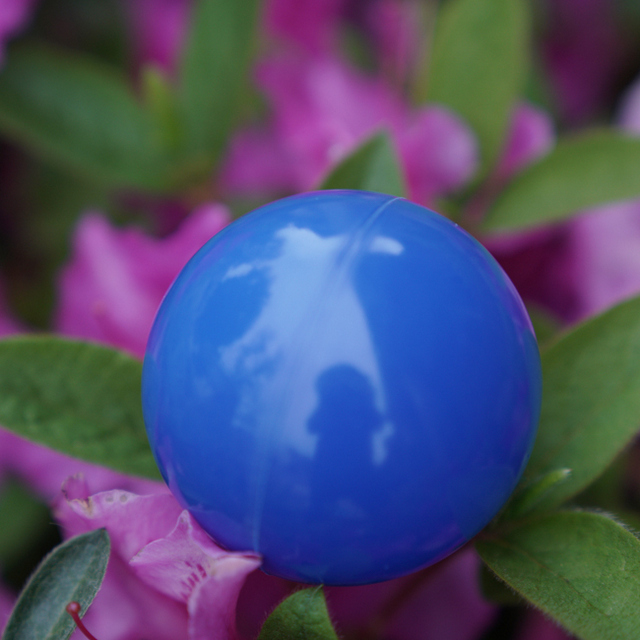Ball: (144, 188, 547, 585)
